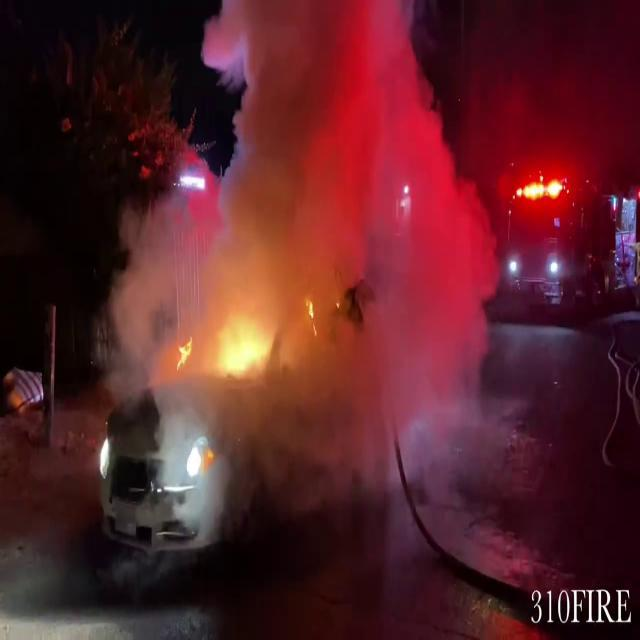Fire: (210, 302, 276, 386)
Smoke: (192, 1, 502, 487)
